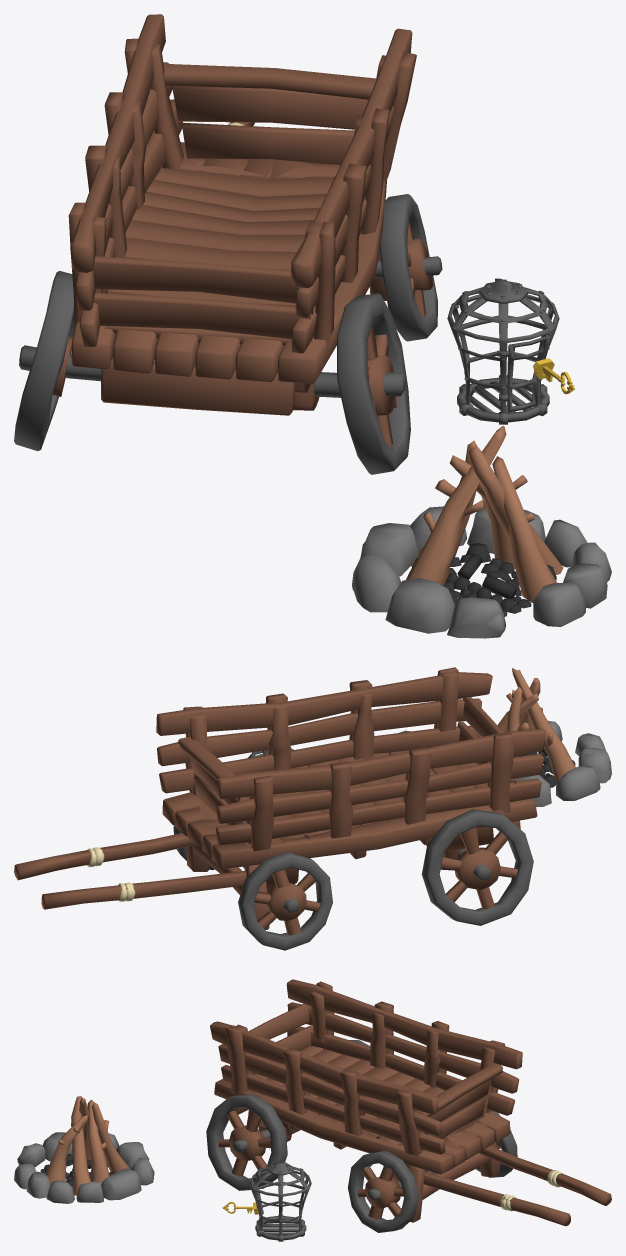
Rendered from cage.glb.
3 views of the same model, one above another, from view 1: azimuth 30°, elevation 25°; view 2: azimuth 150°, elevation 25°; view 3: azimuth 270°, elevation 25° (orthographic). The views are drawn at different scales.
Visible parts, largest first — view 1: Car, Campfire, Cage; view 2: Car, Campfire; view 3: Car, Campfire, Cage.
Boxes of the visible parts, bbox=[...] form: Car: bbox=[14, 14, 442, 474]; Campfire: bbox=[352, 426, 611, 638]; Cage: bbox=[447, 278, 559, 424]; Car: bbox=[14, 667, 545, 950]; Campfire: bbox=[480, 668, 611, 806]; Car: bbox=[206, 979, 611, 1232]; Campfire: bbox=[14, 1096, 154, 1203]; Cage: bbox=[250, 1162, 311, 1241].
Bounding box in the file's own units: 1.74 × 0.751 × 2.83.
